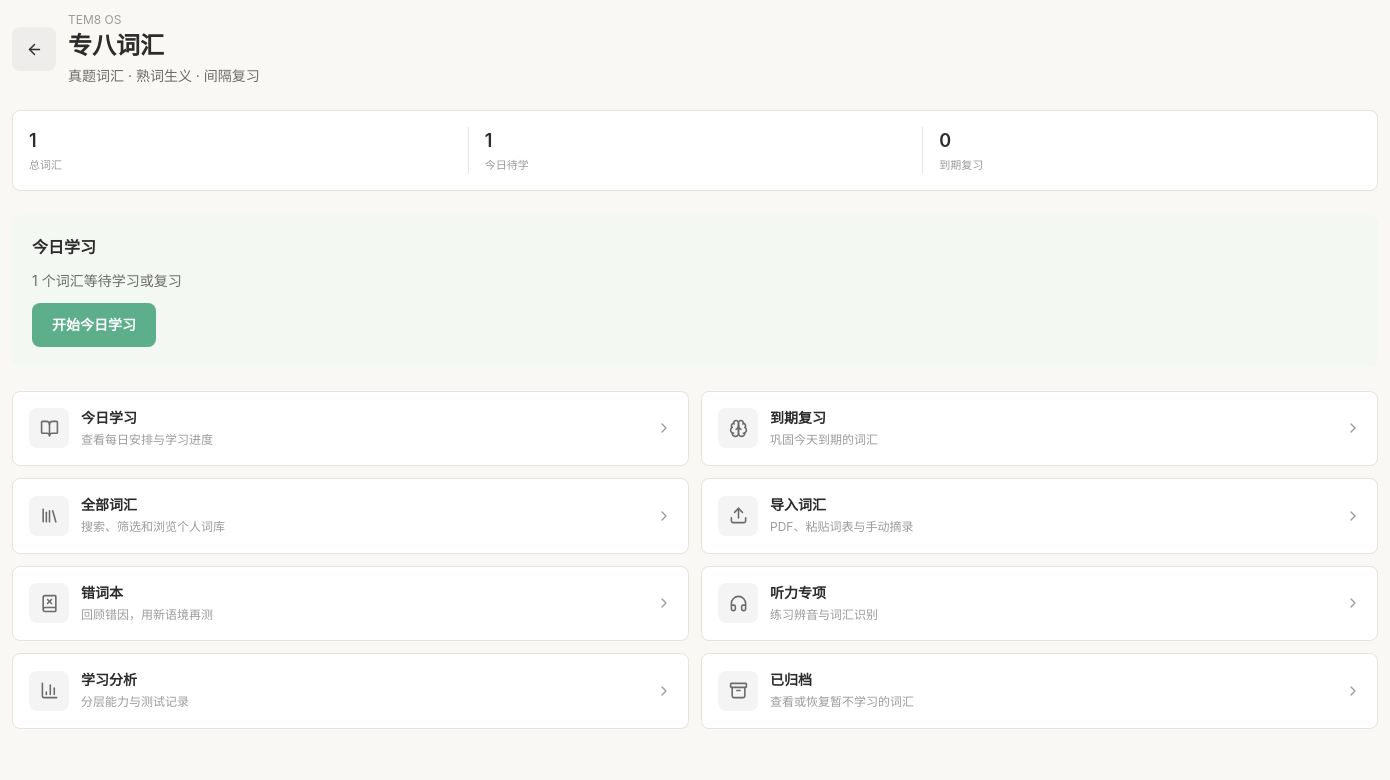
Test: TEM8 routing and progressive disclosure › redirects old bookmarks to a dashboard without word details
Expected: the heading "专八词汇" is shown, [68, 31, 164, 60]
Expected: the text "qualify" is not shown
Click the button "全部词汇 搜索、筛选和浏览个人词库". click: (49, 516)
box: [12, 478, 689, 554]
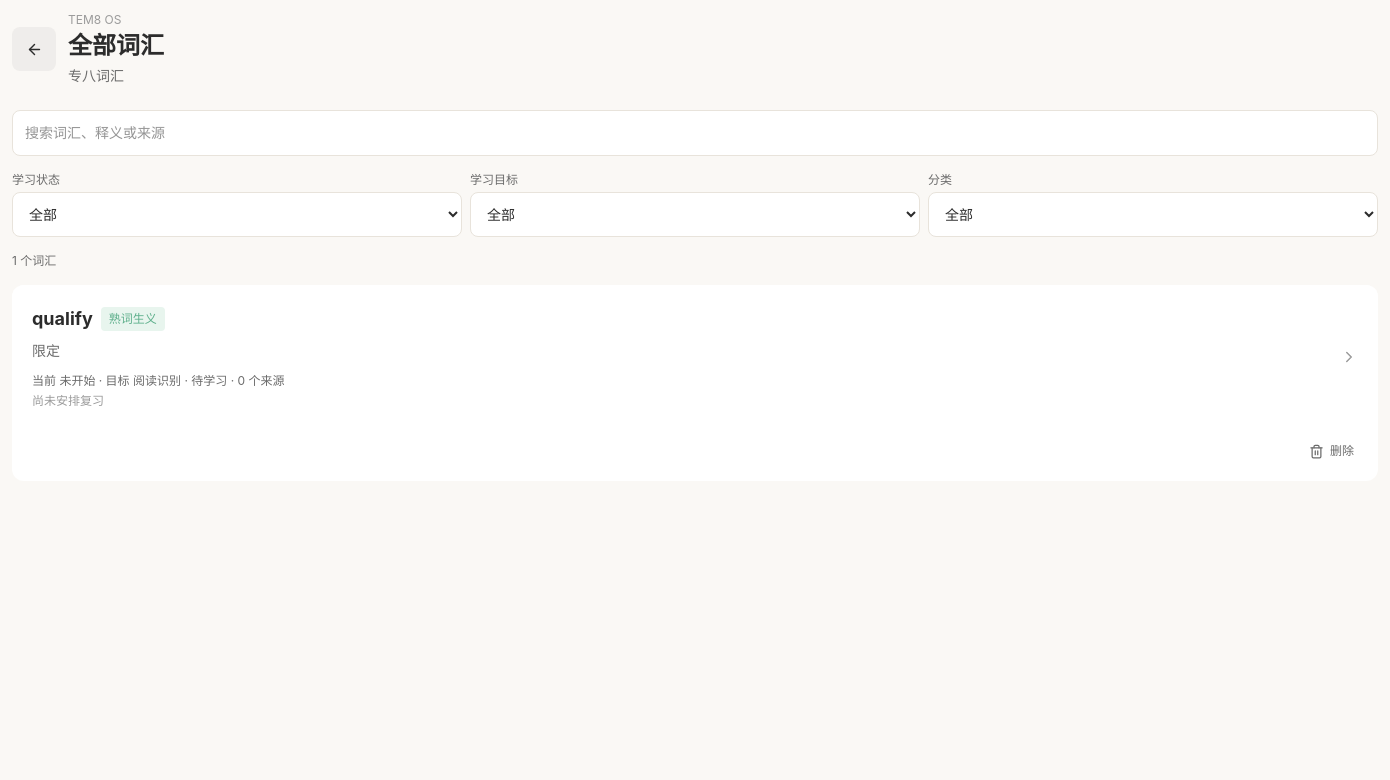
Expected: the link "qualify 熟词生义 限定 当前 未开始 · 目标 阅读识别 · 待学习 · 0 个来源 尚未安排复习" is shown, [12, 285, 1378, 429]
